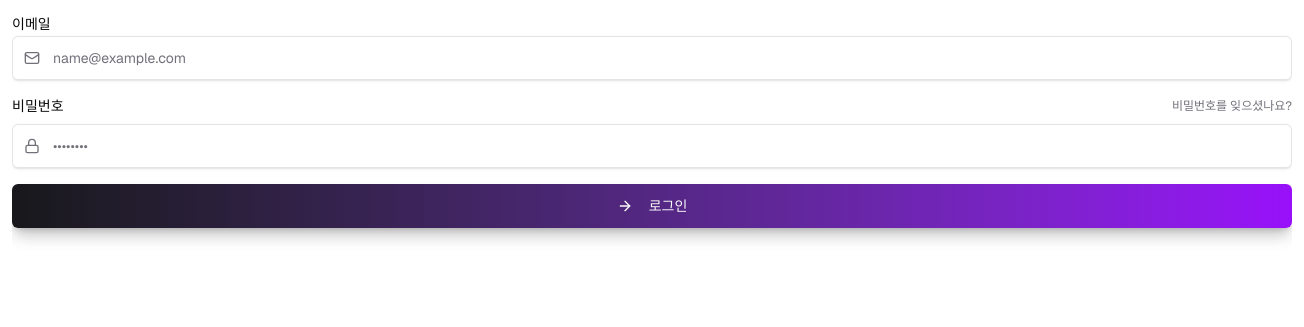
Test: UI 컴포넌트 접근성 › LoginForm 컴포넌트 › 오류 메시지가 스크린 리더에 전달되어야 한다
The image size is (1304, 327).
Step 1. Type "test@example.com" into the field labelled "이메일" → x=652, y=58, box top-left (12, 36), bottom-right (1292, 80)
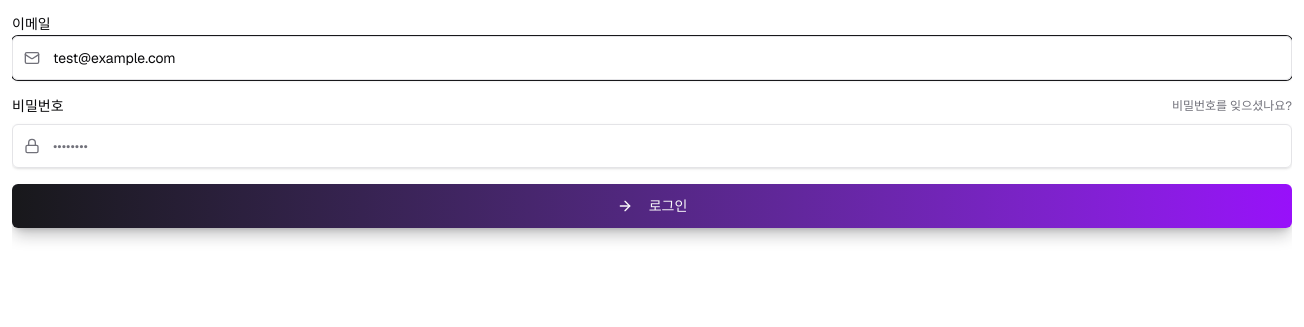
Step 2. Type "password123" into the password field labelled "비밀번호" → x=652, y=146, box top-left (12, 124), bottom-right (1292, 168)
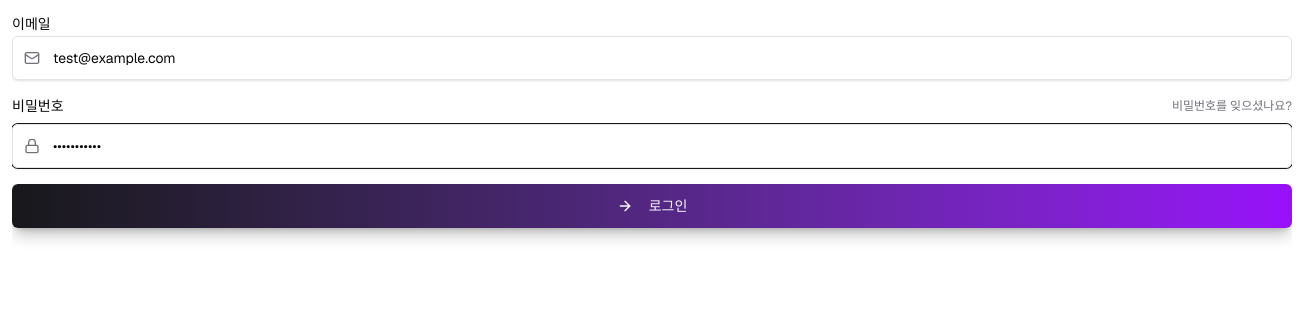
Step 3. Click the button "로그인" → x=652, y=206, box top-left (12, 184), bottom-right (1292, 228)
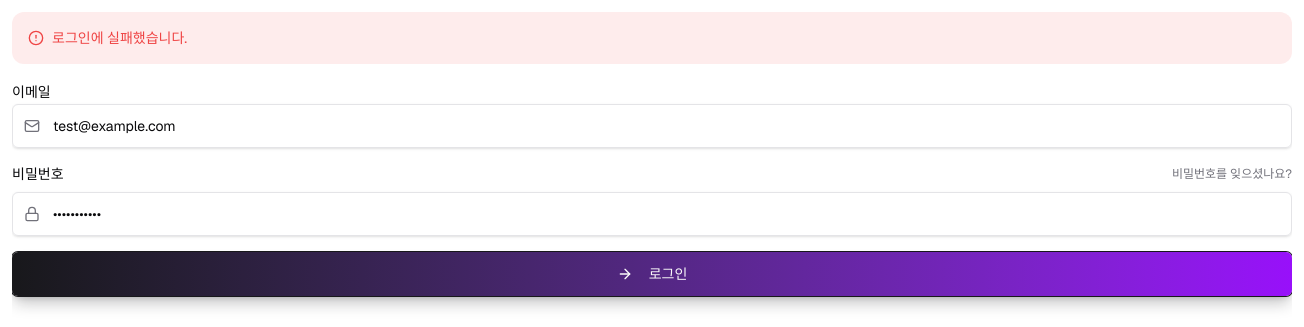
Now the text "로그인에 실패했습니다." is shown, box top-left (52, 28), bottom-right (187, 48)
